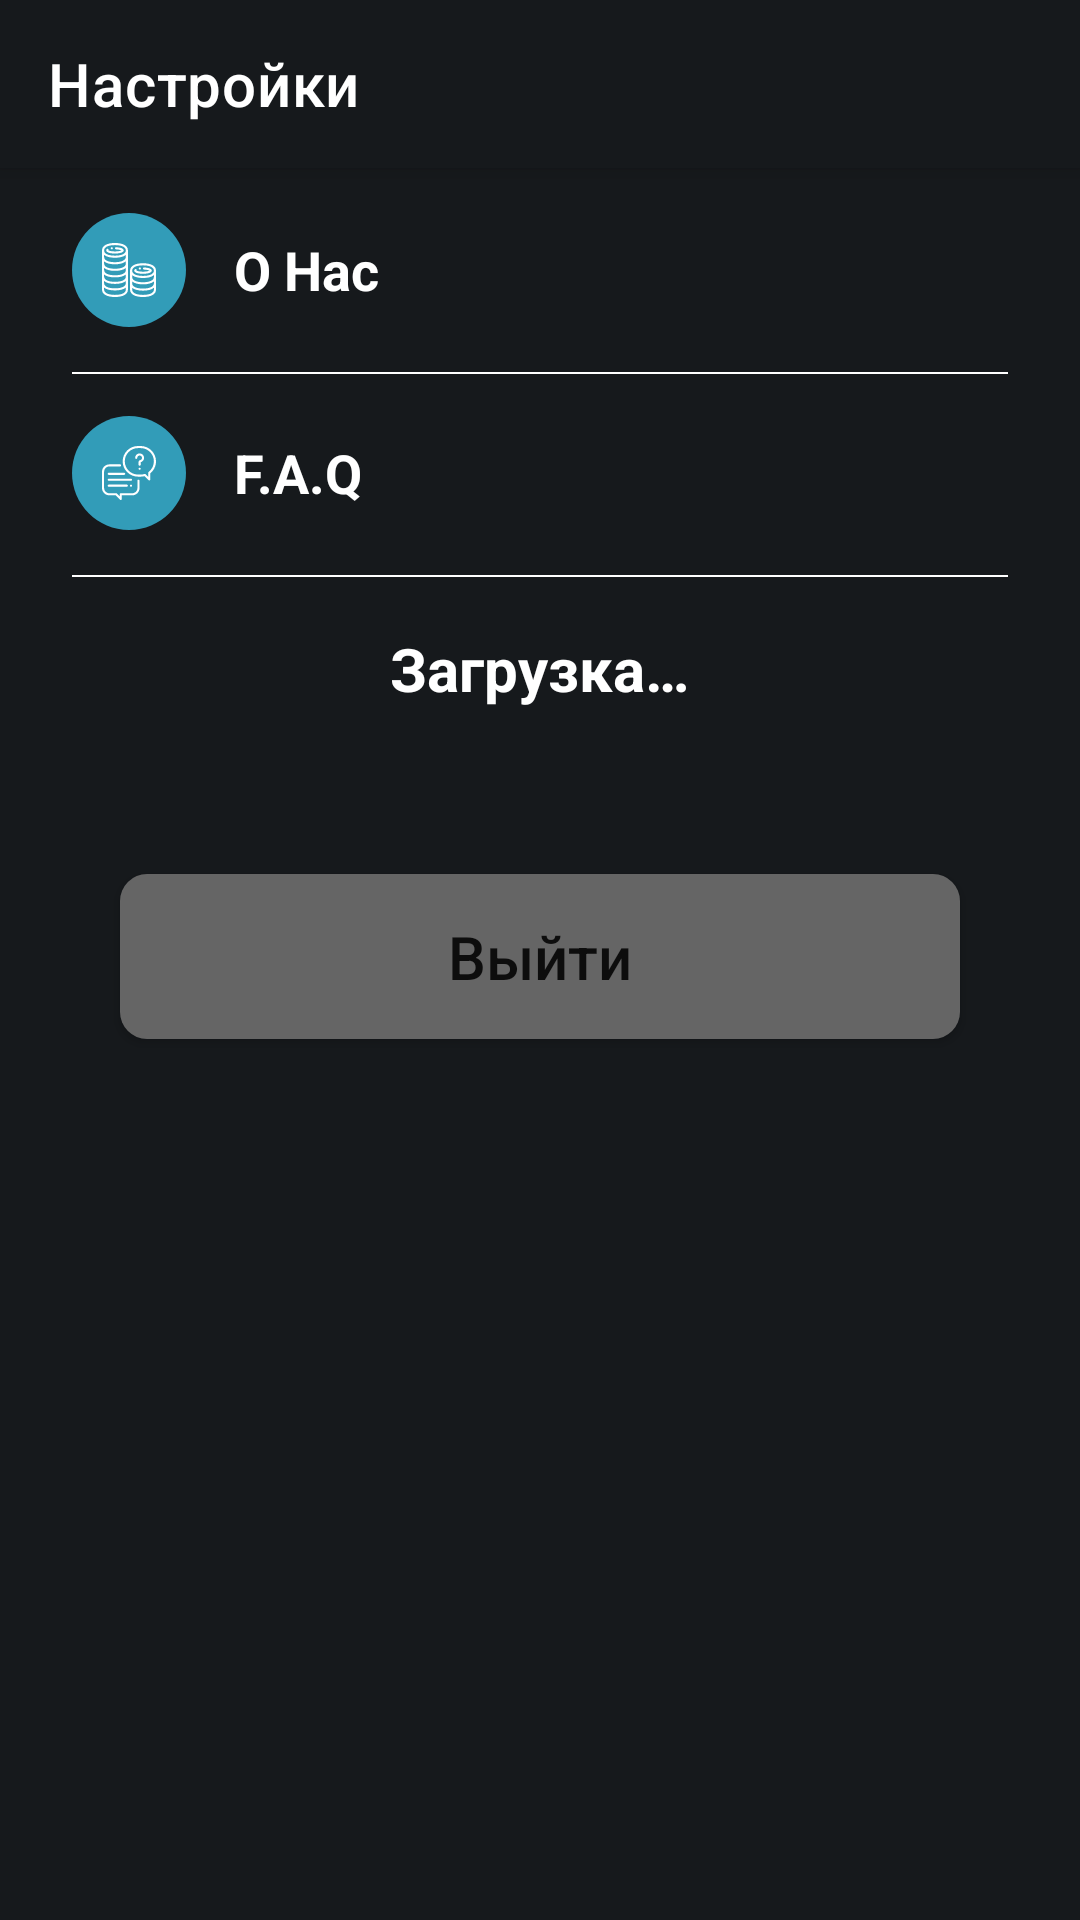

Screen size 1080*1920. Icon name, then its center in pixels as (x=x, y=y):
faq: (x=129, y=473)
